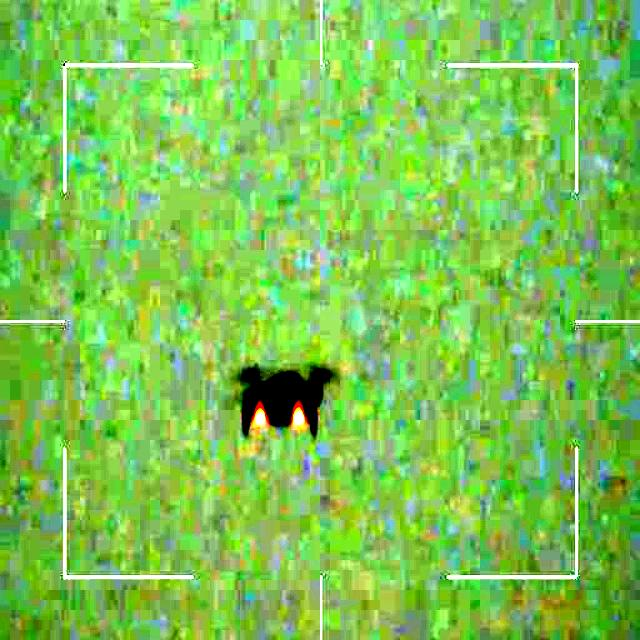bird: (235, 362, 332, 438)
